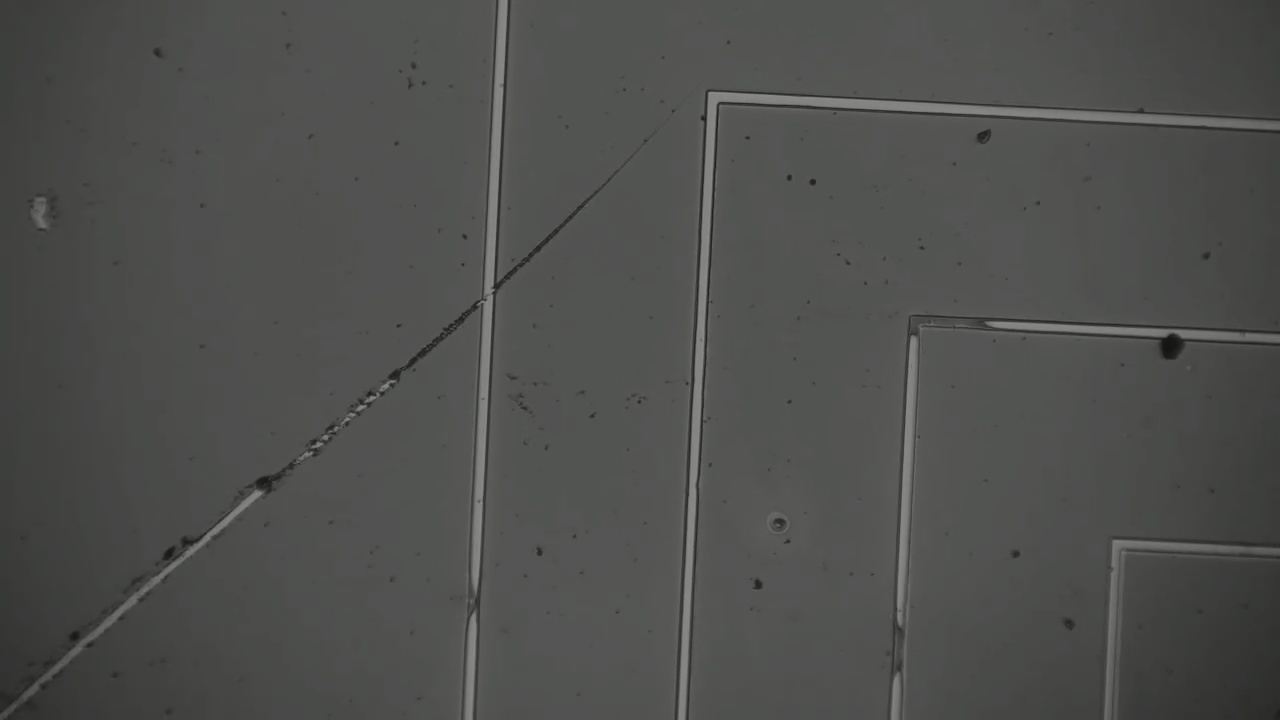gray_line: (882, 298, 1016, 345), (876, 607, 924, 693), (449, 569, 498, 646), (895, 295, 942, 367)
scratch: (1, 104, 688, 716)
